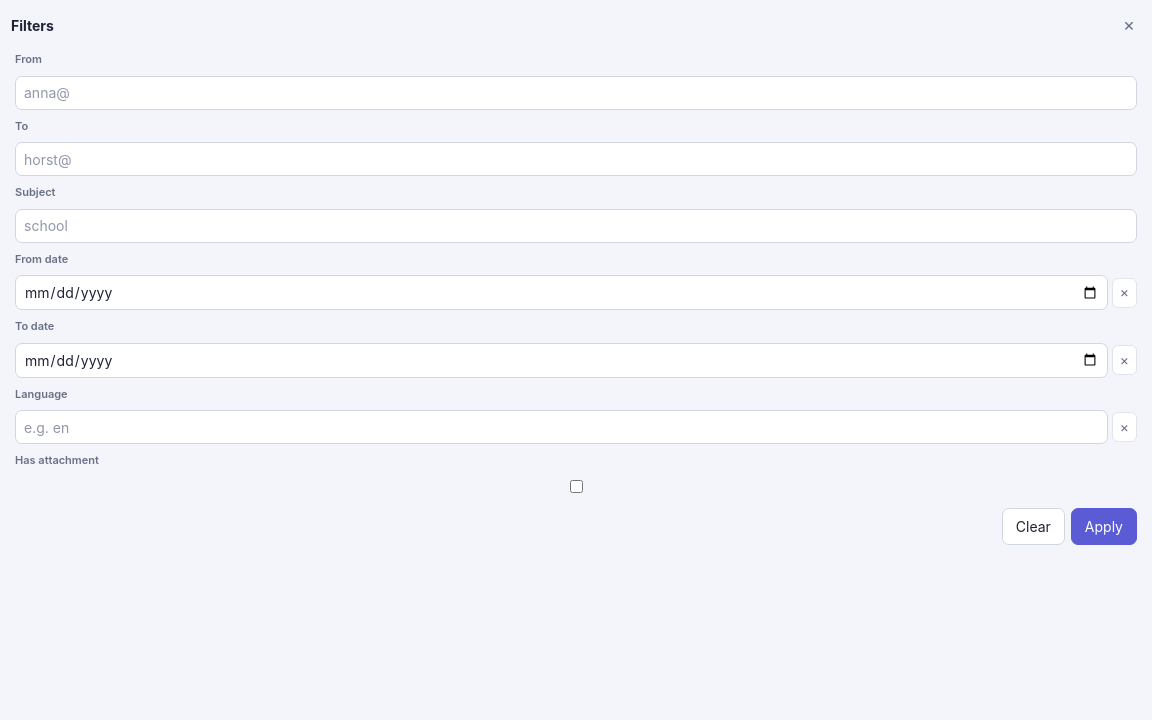
Test case: FilterPopover › × button next to language clears just the language field
This screenshot has width=1152, height=720.
Type "en" into the field labelled "Language" at (561, 427), box [15,410,1108,444]
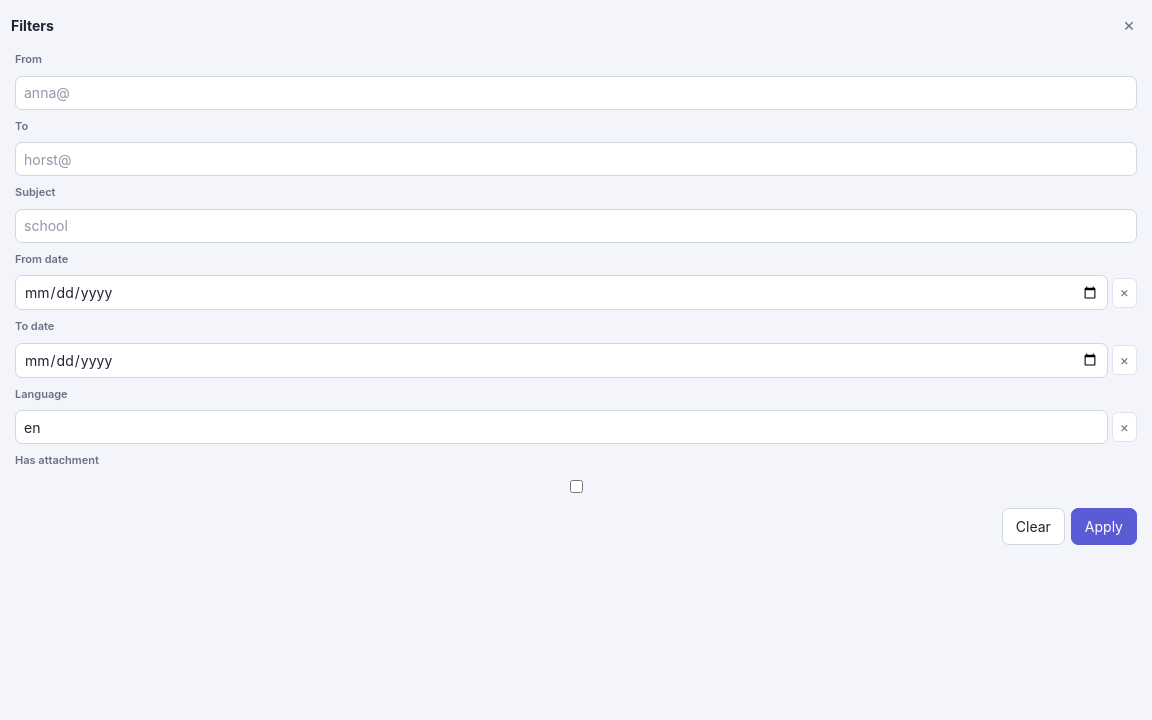
Click the button named "clear language" at (1124, 427), box [1112,412,1137,442]
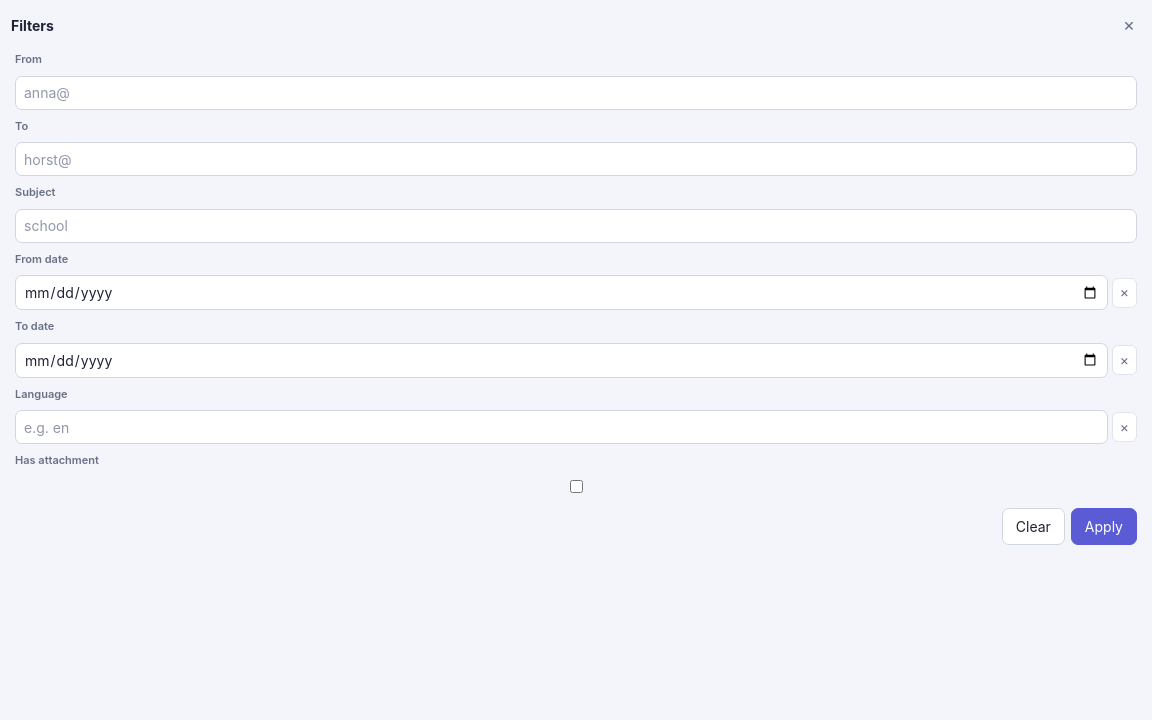
expect the field labelled "Language" is empty: met, box [15,410,1108,444]
